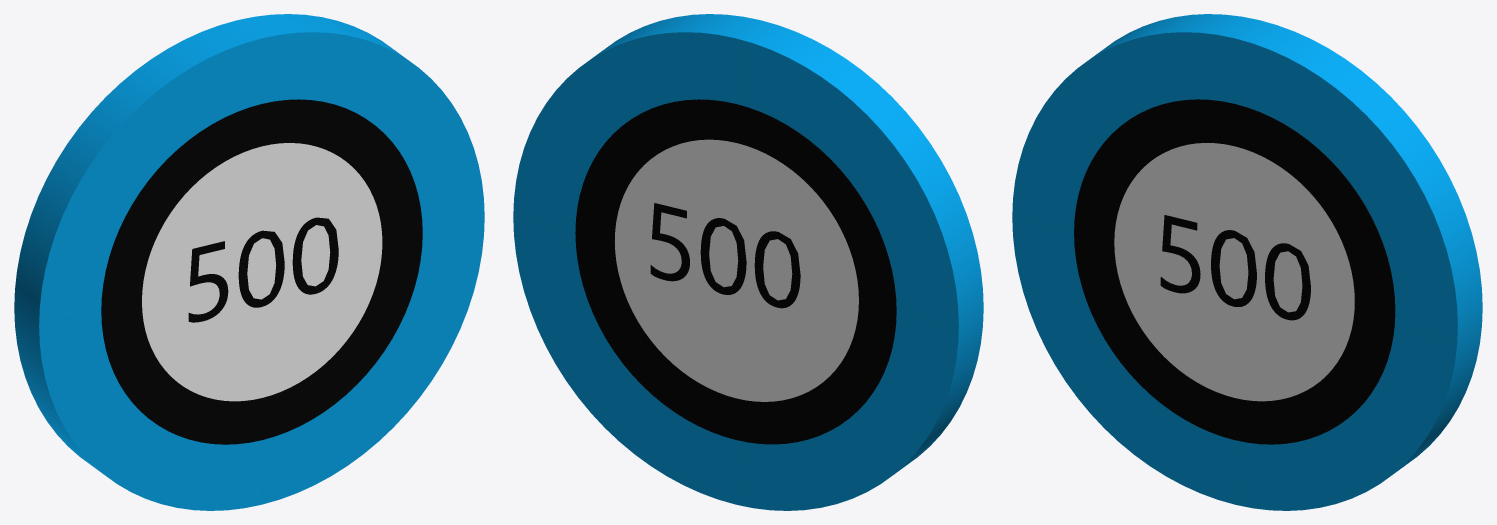
Rendered from Blue 500 chip.fbx.
3 views of the same model, side by side, from view 1: azimuth 30°, elevation 25°; view 2: azimuth 150°, elevation 25°; view 3: azimuth 330°, elevation 25° (orthographic).
Parts seen in each view (by area): view 1: root (×3), node_id70; view 2: root (×3), node_id83; view 3: root (×3), node_id70.
Part boxes in pixels (x1,y1,x2,y2): root (×3): (14, 14, 484, 510); node_id70: (188, 217, 338, 322); root (×3): (513, 14, 983, 510); node_id83: (650, 203, 800, 308); root (×3): (1012, 14, 1482, 510); node_id70: (1160, 215, 1310, 320).
Bounding box in the file's own units: 0.1627 × 0.1627 × 0.0164.
Materials: 4 (2 with a texture image).
